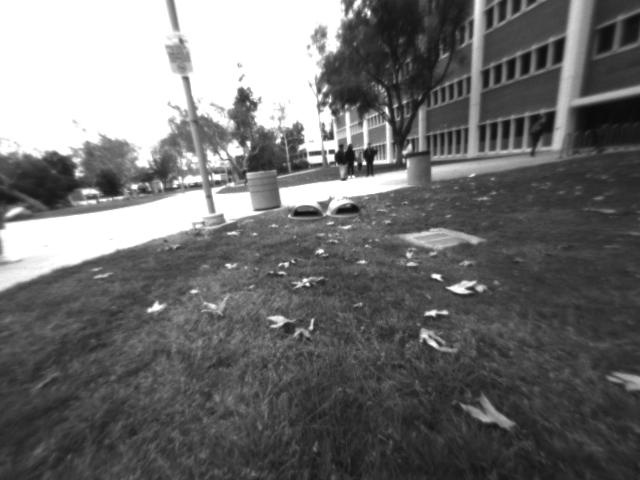trashcan: (245, 172, 286, 211), (406, 151, 434, 195)
